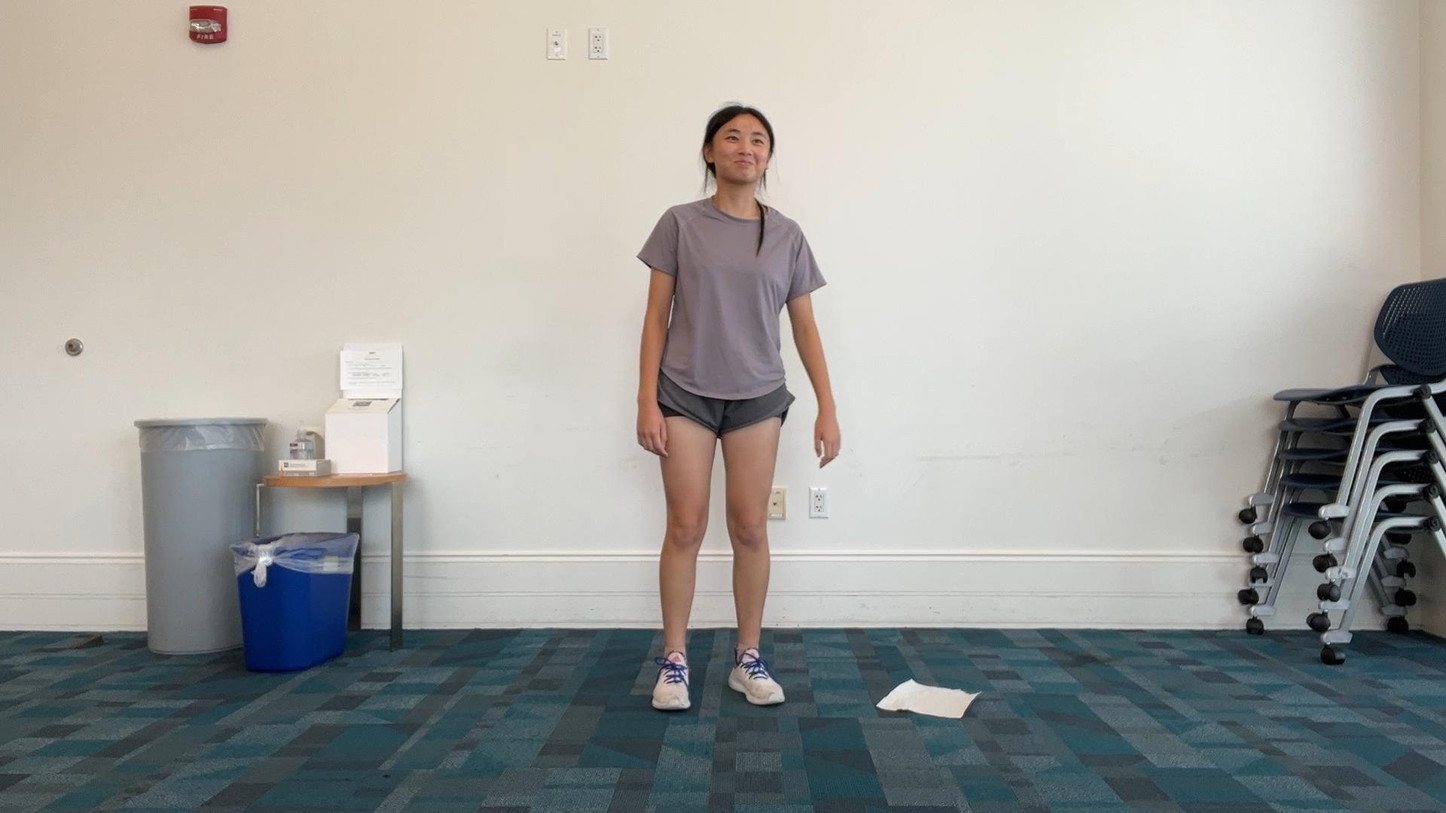Trash: (857, 667, 1000, 738)
